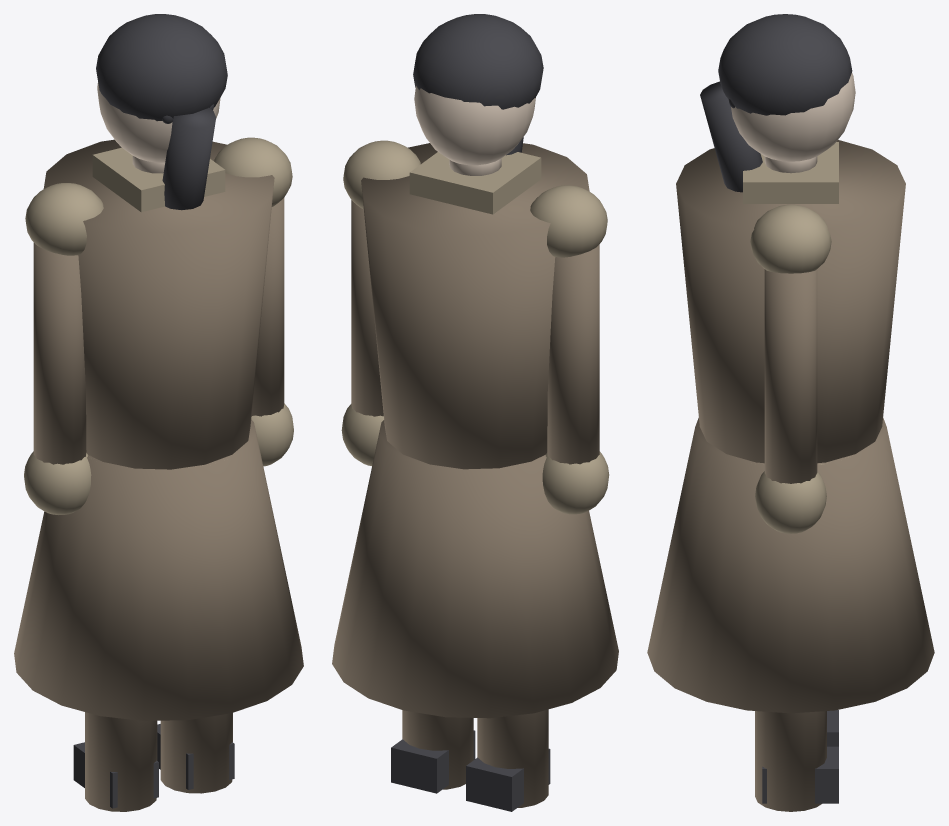
File: tie-shan.glb
The picture shows the model from 3 angles, left to right: view 1: azimuth 30°, elevation 25°; view 2: azimuth 150°, elevation 25°; view 3: azimuth 270°, elevation 25°; orthographic projection.
Parts seen in each view (by area): view 1: tie-shan_robe, tie-shan_torso, tie-shan_hair, tie-shan_arm-0.235, tie-shan_leg-0.09, tie-shan_leg0.09, tie-shan_arm0.235, tie-shan_shoulder-0.22, tie-shan_pigtail, tie-shan_collar, tie-shan_wrap-0.235, tie-shan_shoulder0.22 (+4 smaller); view 2: tie-shan_robe, tie-shan_torso, tie-shan_arm-0.235, tie-shan_hair, tie-shan_head, tie-shan_collar, tie-shan_arm0.235, tie-shan_leg-0.09, tie-shan_shoulder-0.22, tie-shan_leg0.09, tie-shan_wrap-0.235, tie-shan_shoulder0.22 (+4 smaller); view 3: tie-shan_robe, tie-shan_torso, tie-shan_arm0.235, tie-shan_hair, tie-shan_leg0.09, tie-shan_head, tie-shan_shoulder0.22, tie-shan_collar, tie-shan_wrap0.235, tie-shan_pigtail, tie-shan_boot0.09, tie-shan_neck.
Part boxes in pixels (x1=…): tie-shan_robe: x1=14, y1=420, x2=303, y2=720; tie-shan_torso: x1=43, y1=139, x2=274, y2=469; tie-shan_hair: x1=96, y1=14, x2=227, y2=121; tie-shan_arm-0.235: x1=33, y1=242, x2=86, y2=464; tie-shan_leg-0.09: x1=85, y1=712, x2=157, y2=811; tie-shan_leg0.09: x1=160, y1=713, x2=232, y2=793; tie-shan_arm0.235: x1=251, y1=198, x2=284, y2=416; tie-shan_shoulder-0.22: x1=25, y1=183, x2=103, y2=255; tie-shan_pigtail: x1=162, y1=107, x2=215, y2=210; tie-shan_collar: x1=92, y1=147, x2=225, y2=212; tie-shan_wrap-0.235: x1=24, y1=451, x2=91, y2=514; tie-shan_shoulder0.22: x1=214, y1=137, x2=292, y2=206; tie-shan_robe: x1=332, y1=420, x2=618, y2=718; tie-shan_torso: x1=361, y1=143, x2=589, y2=469; tie-shan_arm-0.235: x1=547, y1=244, x2=599, y2=464; tie-shan_hair: x1=413, y1=14, x2=543, y2=109; tie-shan_head: x1=414, y1=86, x2=535, y2=165; tie-shan_collar: x1=409, y1=152, x2=541, y2=214; tie-shan_arm0.235: x1=351, y1=200, x2=383, y2=416; tie-shan_leg-0.09: x1=477, y1=709, x2=548, y2=807; tie-shan_shoulder-0.22: x1=530, y1=185, x2=607, y2=257; tie-shan_leg0.09: x1=402, y1=710, x2=473, y2=789; tie-shan_wrap-0.235: x1=542, y1=451, x2=609, y2=514; tie-shan_shoulder0.22: x1=343, y1=140, x2=420, y2=209; tie-shan_robe: x1=647, y1=417, x2=934, y2=713; tie-shan_torso: x1=676, y1=140, x2=905, y2=463; tie-shan_arm0.235: x1=764, y1=269, x2=817, y2=483; tie-shan_hair: x1=718, y1=14, x2=852, y2=115; tie-shan_leg0.09: x1=755, y1=711, x2=826, y2=811; tie-shan_head: x1=731, y1=73, x2=855, y2=161; tie-shan_shoulder0.22: x1=750, y1=204, x2=831, y2=273; tie-shan_collar: x1=743, y1=142, x2=838, y2=203; tie-shan_wrap0.235: x1=755, y1=471, x2=826, y2=533; tie-shan_pigtail: x1=700, y1=81, x2=762, y2=192; tie-shan_boot0.09: x1=762, y1=746, x2=838, y2=803; tie-shan_neck: x1=764, y1=156, x2=817, y2=173.
Bounding box in the file's own units: 0.62 × 1.74 × 0.6.
